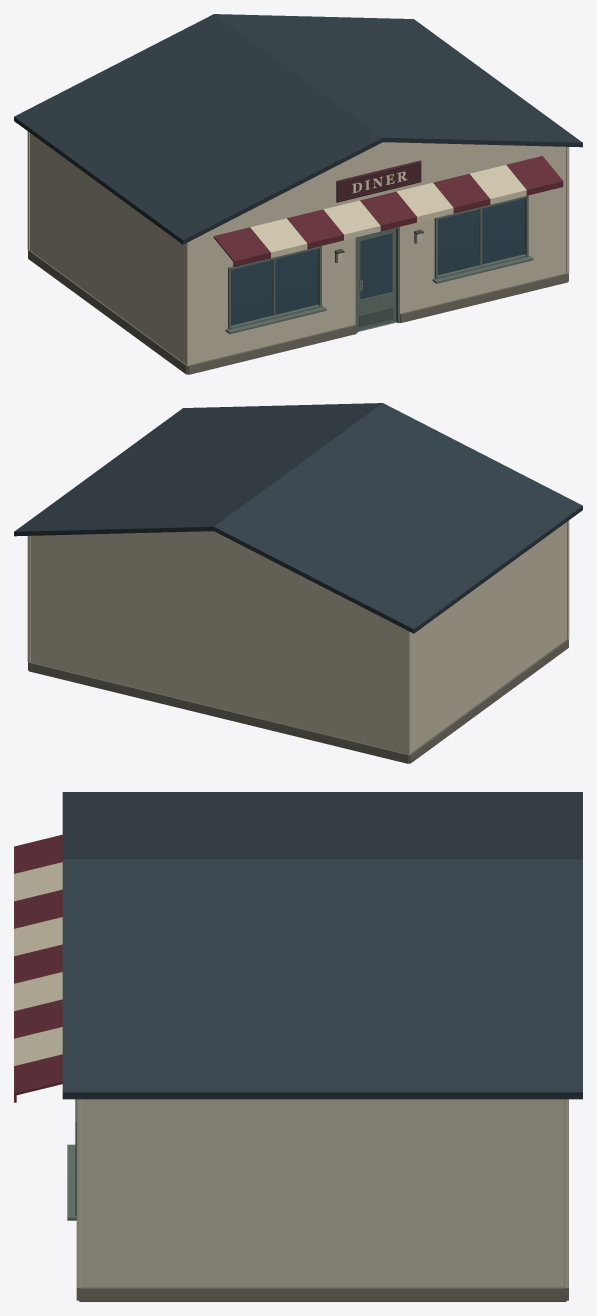
The model's file is Diner_Exterior.fbx.
3 renders of one model, top to bottom at view 1: azimuth 30°, elevation 25°; view 2: azimuth 150°, elevation 25°; view 3: azimuth 270°, elevation 25°, orthographic. The views are drawn at different scales.
Parts seen in each view (by area): view 1: Roof, Building_Shell_Front, Building_Shell_Left, Awning, Exterior_Trim, Window_Right, Window_Left, Entrance_Door, Diner_Sign, Entrance_Frame; view 2: Roof, Building_Shell_Rear, Building_Shell_Left, Exterior_Trim; view 3: Roof, Building_Shell_Right, Awning, Exterior_Trim, Building_Shell_Front, Building_Shell_Rear, Window_Right.
Boxes of the visible parts, bbox=[...] form: Roof: bbox=[14, 14, 582, 244]; Building_Shell_Front: bbox=[184, 142, 566, 364]; Building_Shell_Left: bbox=[33, 135, 183, 362]; Awning: bbox=[213, 156, 563, 266]; Exterior_Trim: bbox=[27, 131, 569, 374]; Window_Right: bbox=[432, 195, 533, 283]; Window_Left: bbox=[225, 246, 326, 334]; Entrance_Door: bbox=[357, 229, 395, 330]; Diner_Sign: bbox=[336, 160, 421, 202]; Entrance_Frame: bbox=[355, 227, 399, 333]; Roof: bbox=[14, 403, 582, 633]; Building_Shell_Rear: bbox=[30, 531, 412, 753]; Building_Shell_Left: bbox=[413, 524, 563, 751]; Exterior_Trim: bbox=[27, 520, 569, 763]; Roof: bbox=[62, 792, 582, 1099]; Building_Shell_Right: bbox=[90, 1099, 555, 1287]; Awning: bbox=[14, 834, 62, 1102]; Exterior_Trim: bbox=[76, 1099, 568, 1301]; Building_Shell_Front: bbox=[81, 1099, 90, 1287]; Building_Shell_Rear: bbox=[555, 1099, 564, 1287]; Window_Right: bbox=[67, 1099, 76, 1220].
Bounding box in the file's own units: 9.48 × 4.4 × 7.59.
14 materials, 1 textured.
